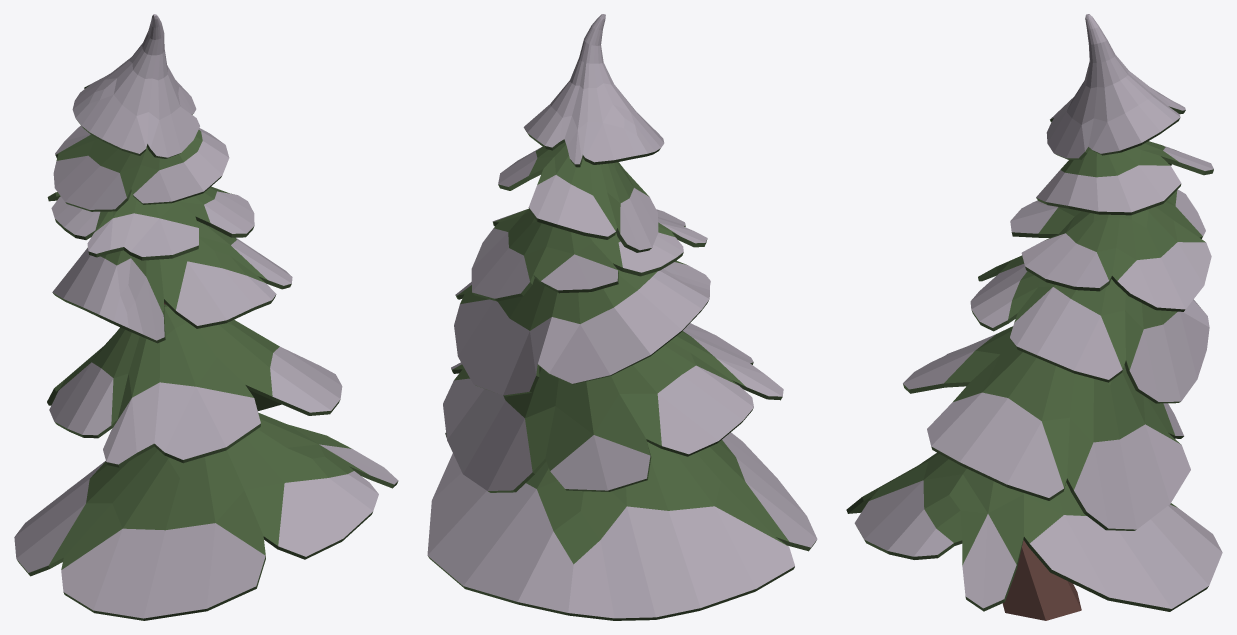
The model's file is PineTree_Snow_3.gltf.
3 renders of one model, left to right at view 1: azimuth 30°, elevation 25°; view 2: azimuth 150°, elevation 25°; view 3: azimuth 270°, elevation 25°, orthographic. The views are drawn at different scales.
Visible parts, largest first — view 1: PineTree_Snow_3; view 2: PineTree_Snow_3; view 3: PineTree_Snow_3.
Boxes of the visible parts, x1,y1,x2,y2 form: PineTree_Snow_3: (14, 14, 398, 620); PineTree_Snow_3: (427, 14, 817, 620); PineTree_Snow_3: (846, 14, 1222, 620).
Size of the model in its own units: 2.16 by 3.3 by 1.95.
